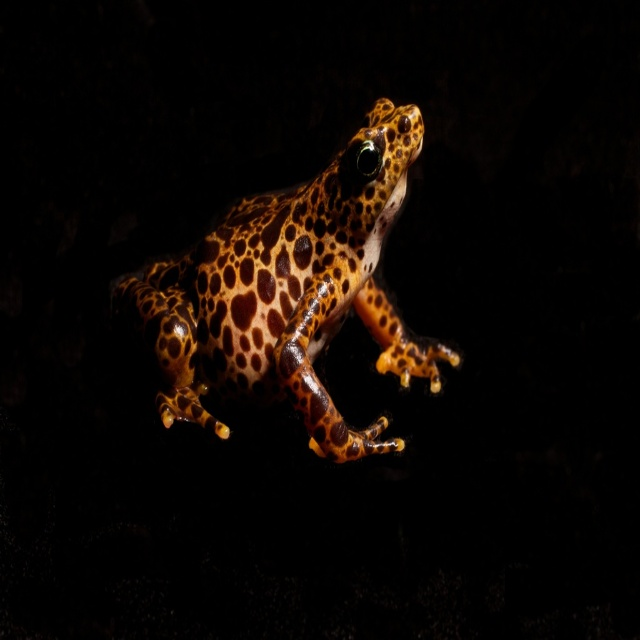Frog: (109, 95, 462, 467)
